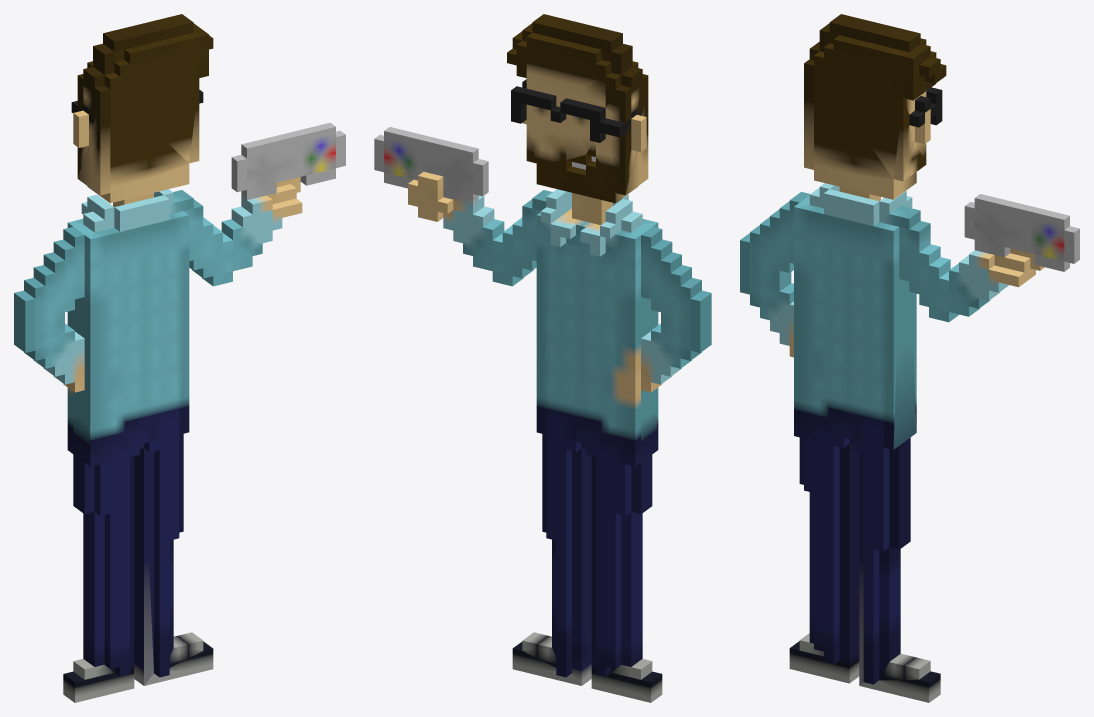
The model's file is GameDesigner.dae.
3 views of the same model, side by side, from view 1: azimuth 30°, elevation 25°; view 2: azimuth 150°, elevation 25°; view 3: azimuth 330°, elevation 25° (orthographic).
Visible parts, largest first — view 1: gamedesigner.merged; view 2: gamedesigner.merged; view 3: gamedesigner.merged.
Part boxes in pixels (x1=…): gamedesigner.merged: x1=14, y1=14, x2=345, y2=702; gamedesigner.merged: x1=374, y1=14, x2=711, y2=702; gamedesigner.merged: x1=740, y1=14, x2=1079, y2=702.
Bounding box in the file's own units: 3.3 × 0.5 × 6.3.
Materials: 1 (1 with a texture image).
